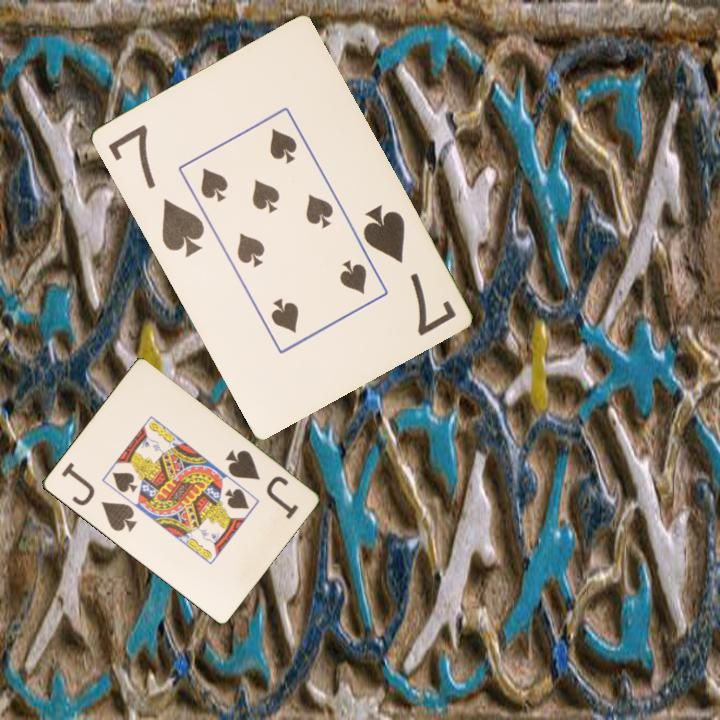7s: (104, 120, 207, 261), (358, 201, 459, 339)
Js: (57, 458, 140, 535), (220, 446, 301, 522)
